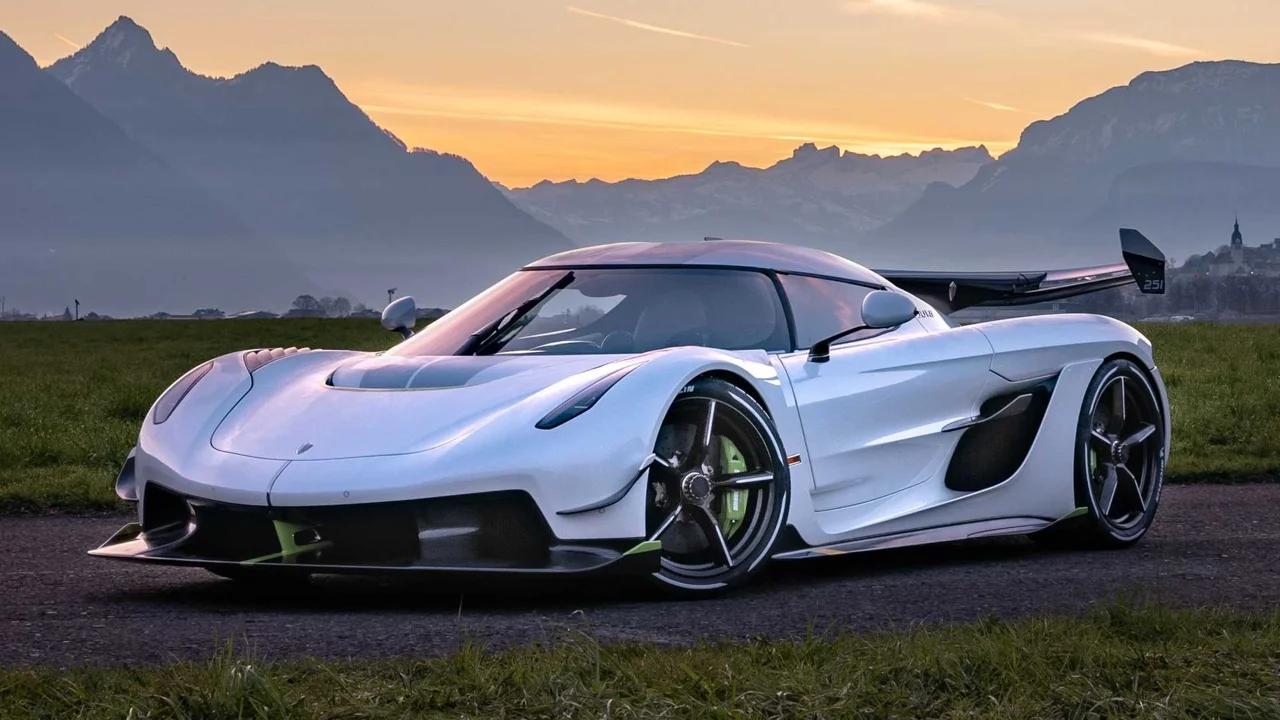other: (83, 231, 1177, 585)
